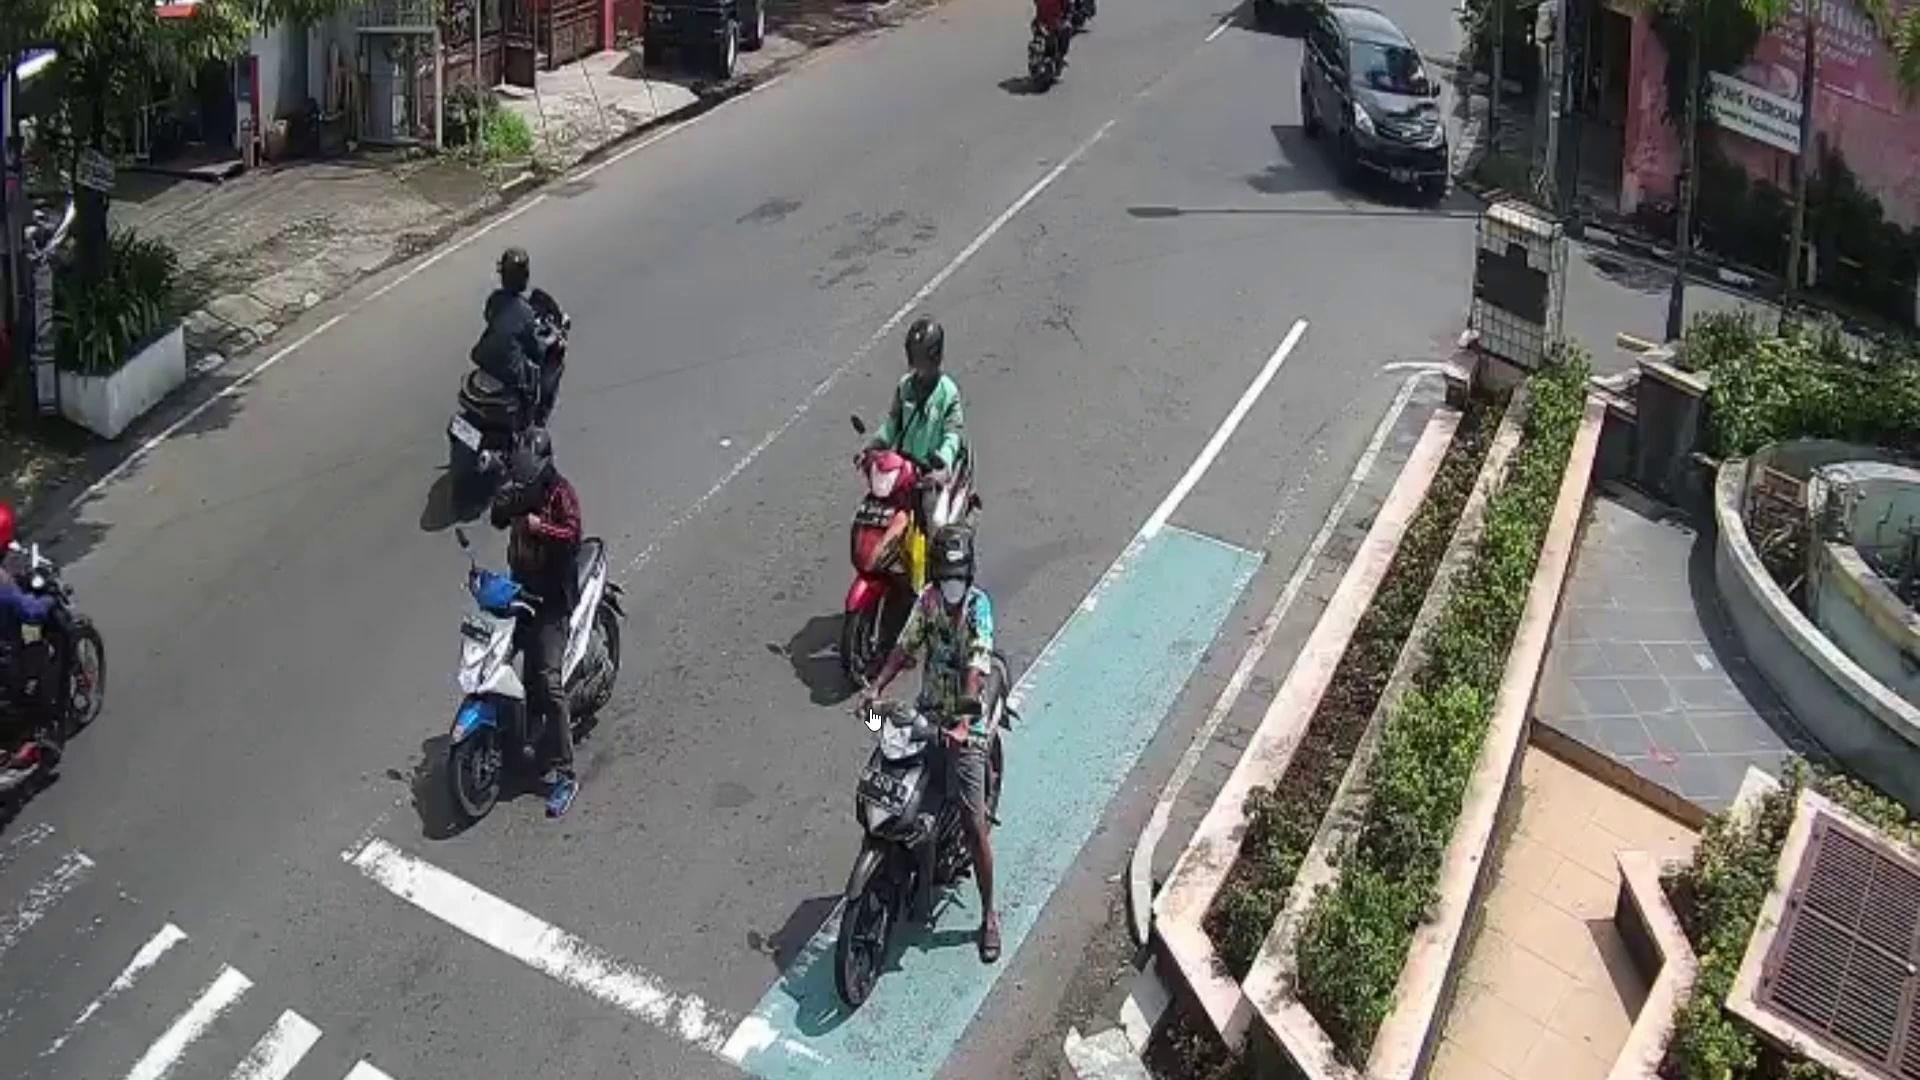car: (1303, 0, 1448, 207)
motorbike: (836, 650, 1004, 1011), (448, 538, 622, 816), (843, 436, 976, 688), (440, 290, 572, 510)
